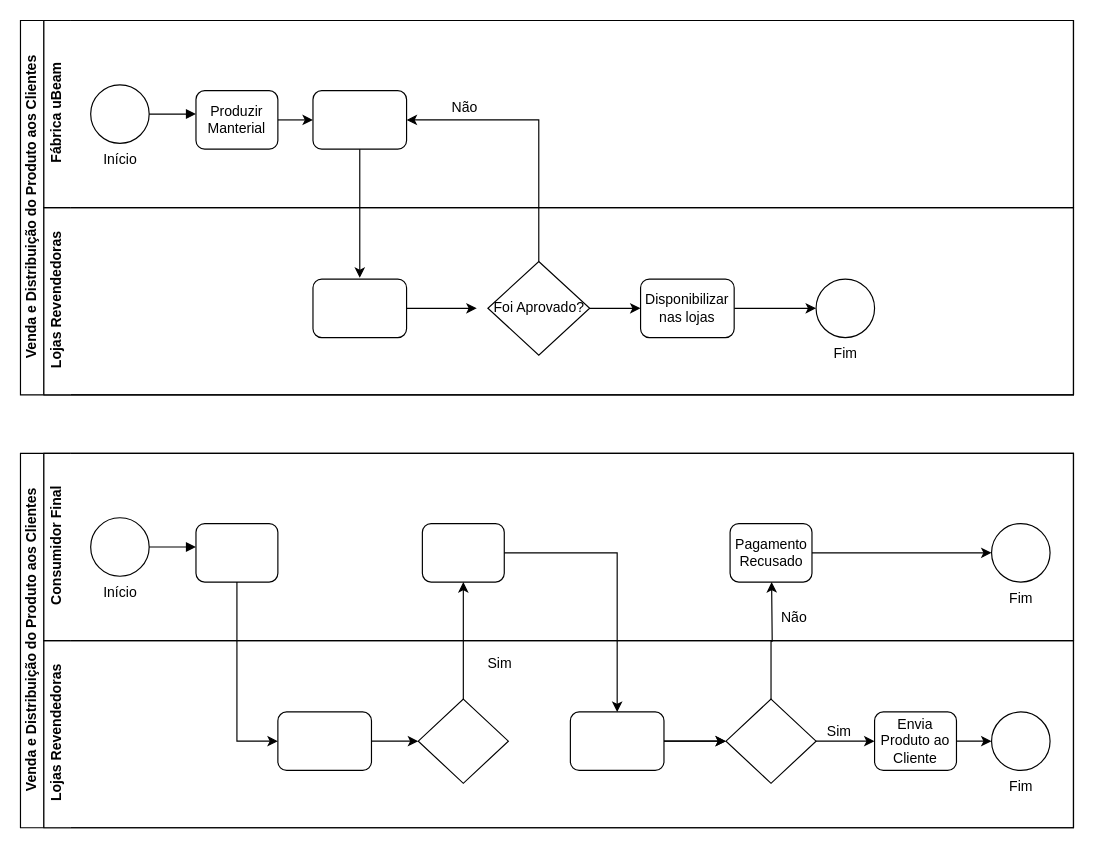
Image size: 1094x848. Some labels were removed from this diagram. Each missing label, with the centre of its shape:
"Analisar preço uBeam" goes at (359,308).
"Informar dados para pagamento" goes at (462,552).
"Negociar com Revendedores" goes at (359,119).
"Pagamento Aprovado?" goes at (770,740).
"Possui Estoque?" goes at (462,740).
"Solicitar Compra" goes at (236,552).
"Verificar Dados" goes at (616,740).
"Verificar Estoque" goes at (324,740).
